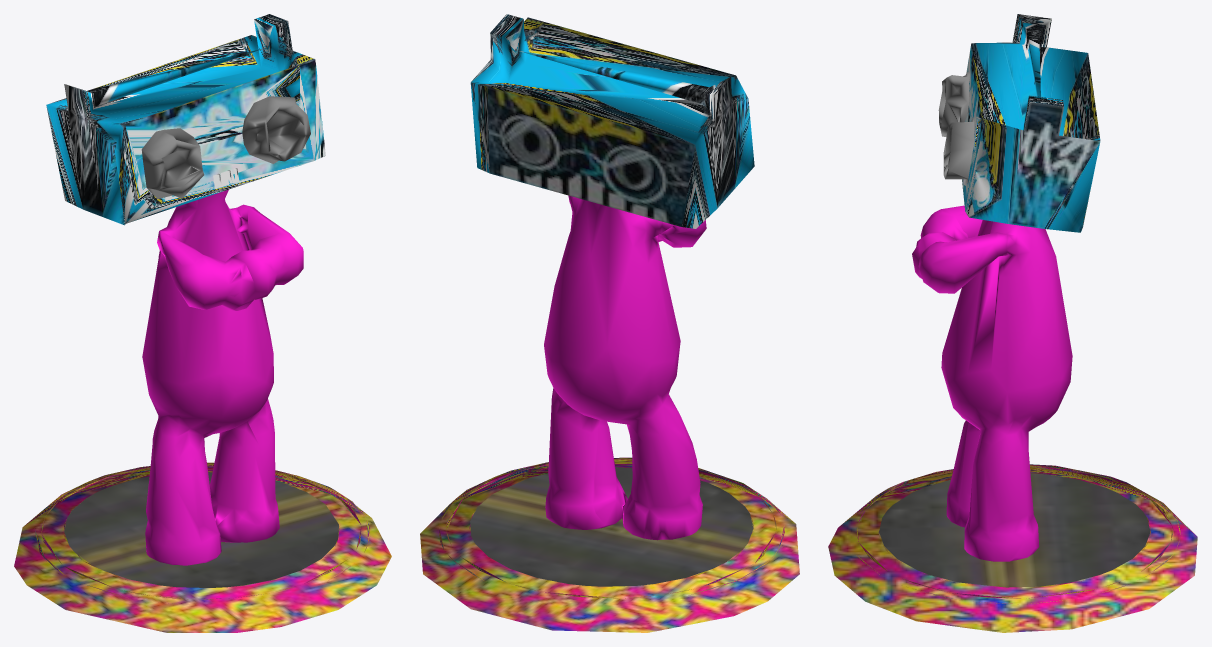
3 views of the same model, side by side, from view 1: azimuth 30°, elevation 25°; view 2: azimuth 150°, elevation 25°; view 3: azimuth 270°, elevation 25° (orthographic). The views are drawn at different scales.
Size of the model in its own units: 1.44 by 2.12 by 1.43.
Materials: 6 (3 with a texture image).
